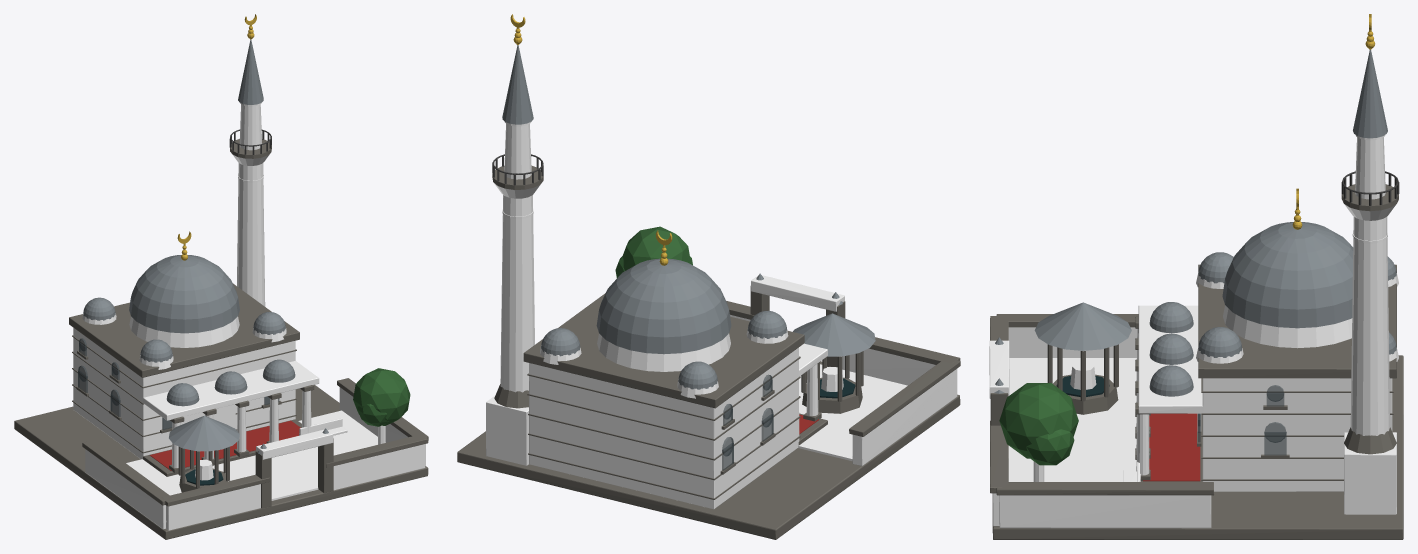
File: cami.glb
3 renders of one model, left to right at view 1: azimuth 30°, elevation 25°; view 2: azimuth 150°, elevation 25°; view 3: azimuth 270°, elevation 25°, orthographic. The views are drawn at different scales.
Visible parts, largest first — view 1: Cone; view 2: Cone; view 3: Cone.
Part boxes in pixels (left/top/right/bottom): Cone: left=14, top=14, right=428, bottom=539; Cone: left=457, top=14, right=960, bottom=539; Cone: left=989, top=14, right=1403, bottom=539.
Bounding box in the file's own units: 1 × 1.32 × 0.9947.
